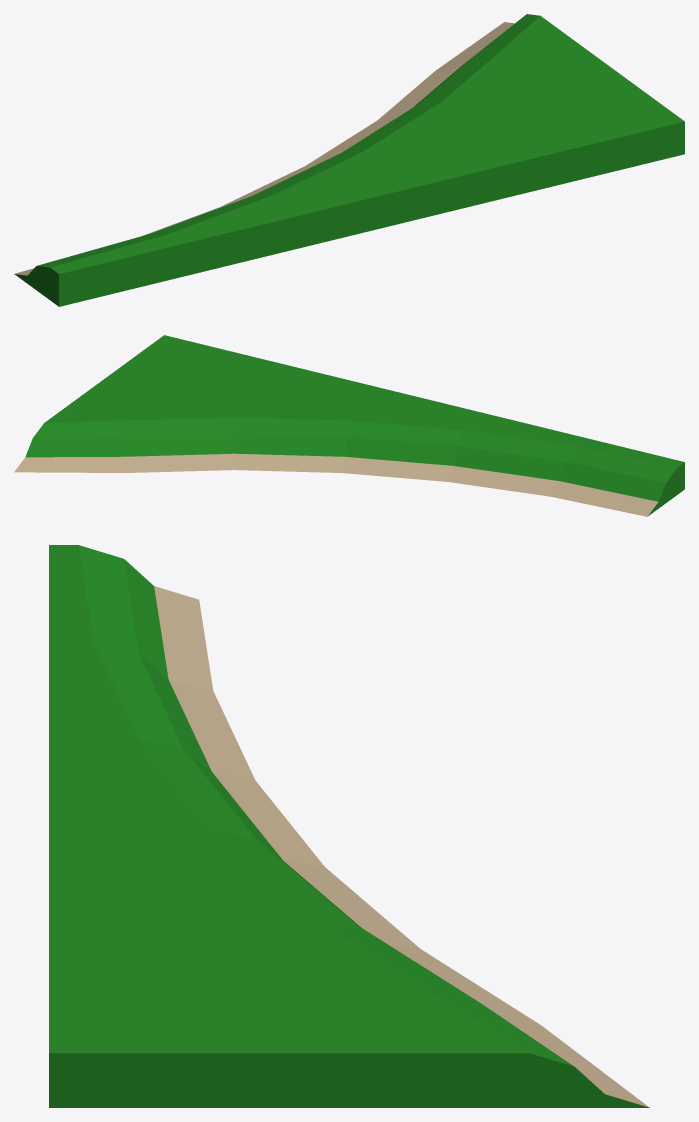
File: path_edge_corner_split_x3.obj
The picture shows the model from 3 angles, top to bottom: view 1: azimuth 30°, elevation 25°; view 2: azimuth 150°, elevation 25°; view 3: azimuth 270°, elevation 25°; orthographic projection. The views are drawn at different scales.
Parts seen in each view (by area): view 1: 3Outer.001_Circle.023; view 2: 3Outer.001_Circle.023; view 3: 3Outer.001_Circle.023.
Part boxes in pixels (left/top/right/bottom): 3Outer.001_Circle.023: left=14, top=14, right=684, bottom=306; 3Outer.001_Circle.023: left=14, top=335, right=684, bottom=516; 3Outer.001_Circle.023: left=49, top=545, right=649, bottom=1107.
Bounding box in the file's own units: 4 × 0.2 × 2.
